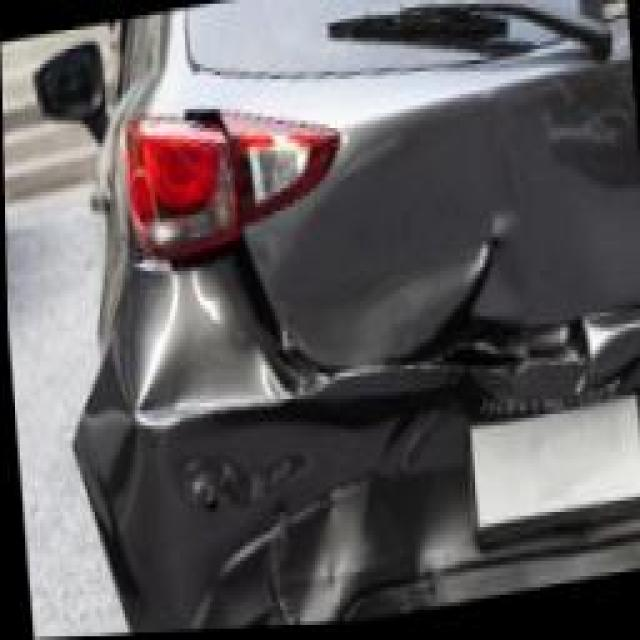Bumper: (72, 316, 640, 640)
Dickey: (250, 173, 614, 411)
